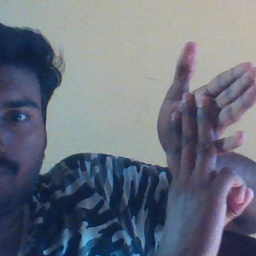M: (153, 39, 256, 203)
